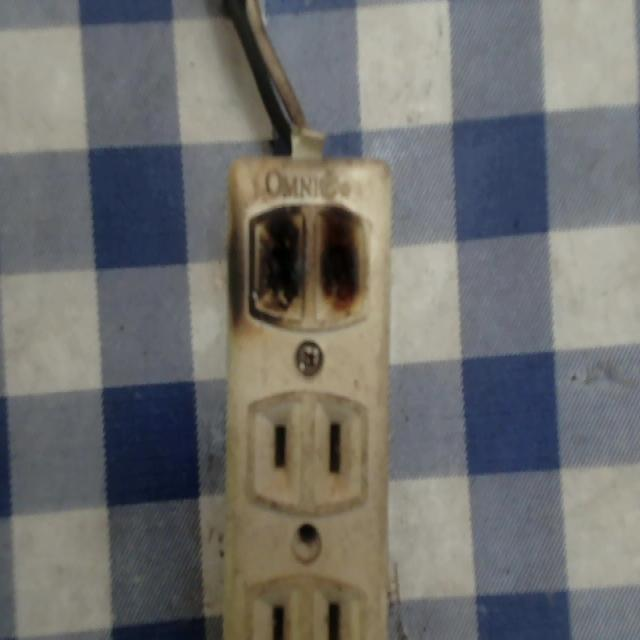-: (223, 187, 380, 336)
